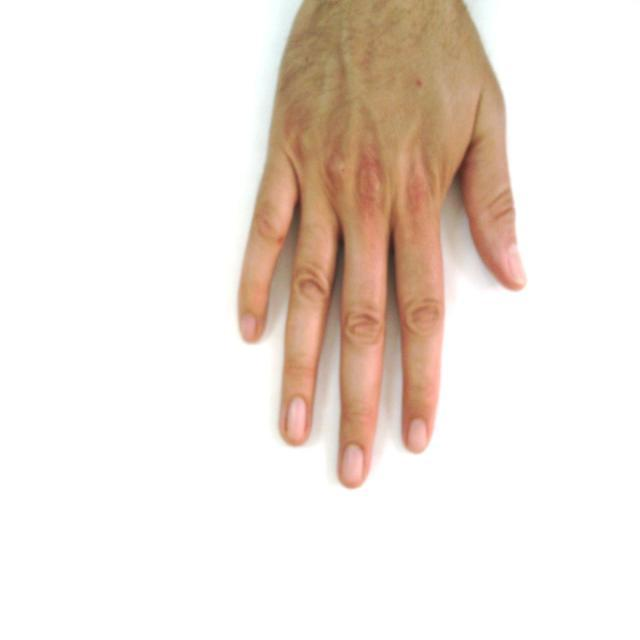Fingernail: (342, 445, 364, 486), (288, 396, 307, 442), (408, 419, 426, 452), (509, 246, 525, 283), (242, 315, 258, 343)
